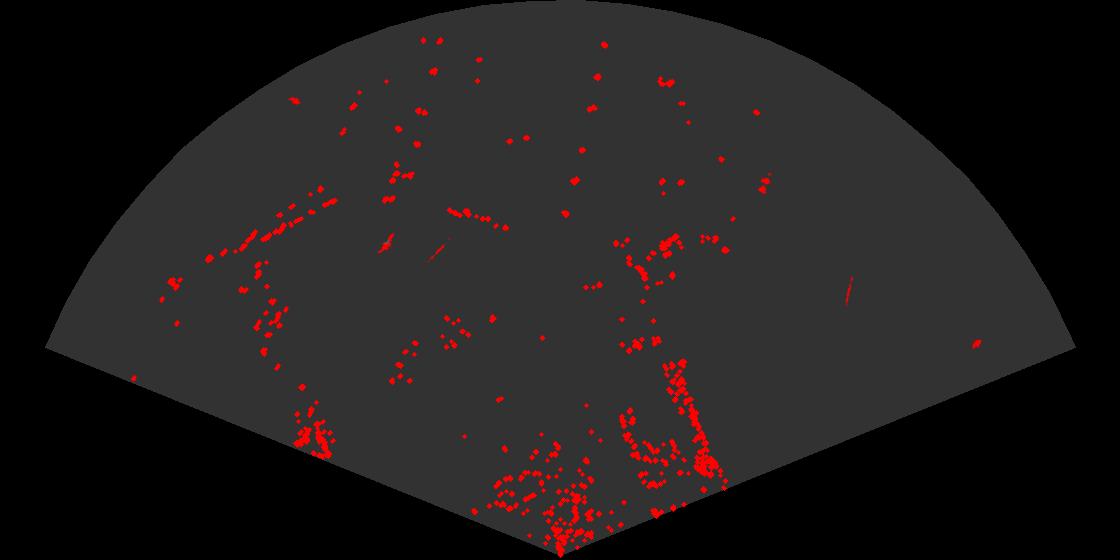AUV: (970, 337, 983, 351), (287, 95, 302, 106)
cage: (756, 173, 771, 196)
chain: (427, 236, 452, 263), (844, 276, 854, 307)
frogman: (376, 231, 397, 253)
